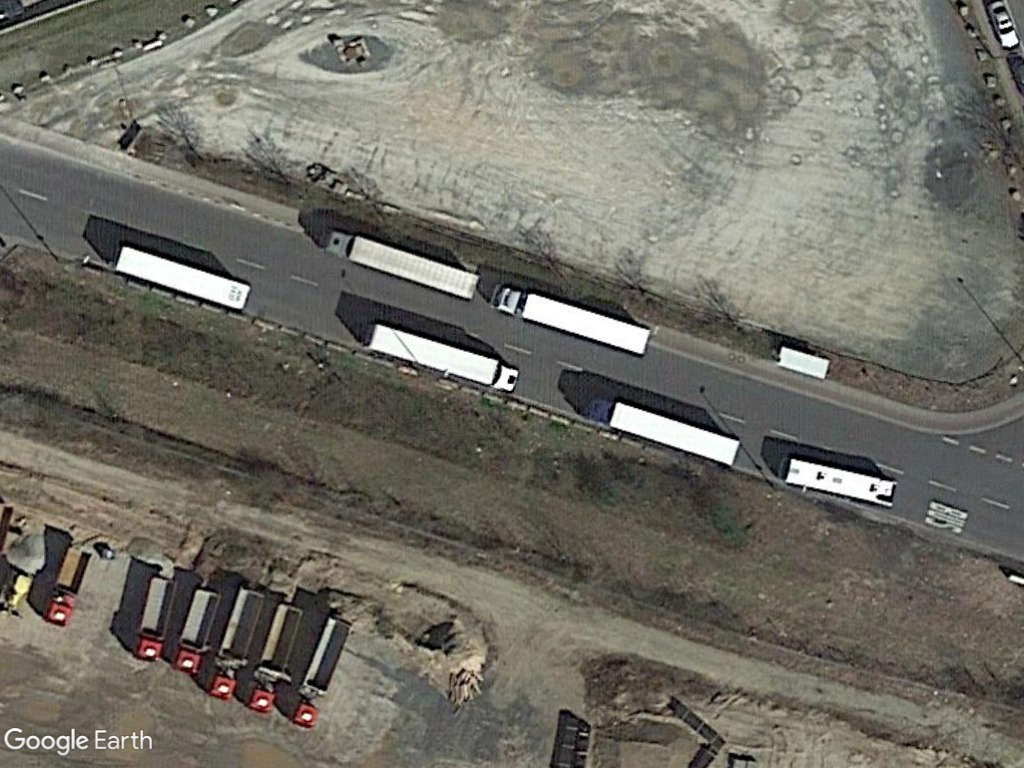bus: (111, 239, 255, 318), (776, 452, 898, 510)
longvehicle: (488, 279, 655, 363), (316, 222, 483, 303), (579, 388, 744, 467), (360, 317, 523, 395)
